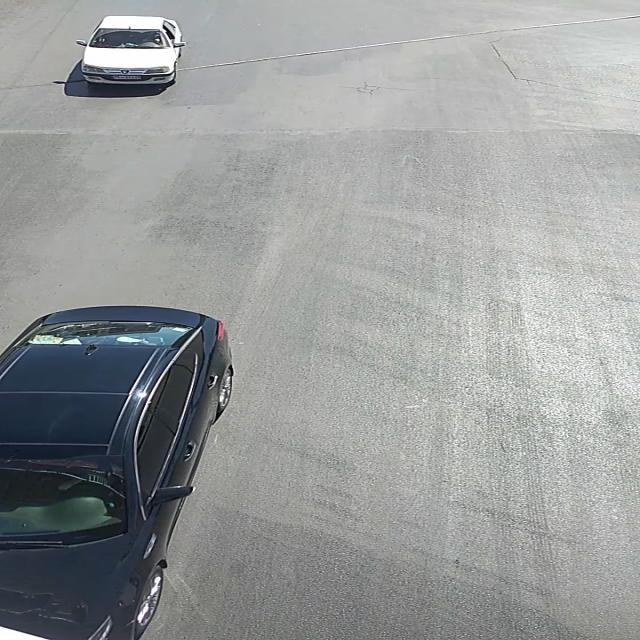car: (2, 306, 231, 628), (73, 18, 187, 84)
